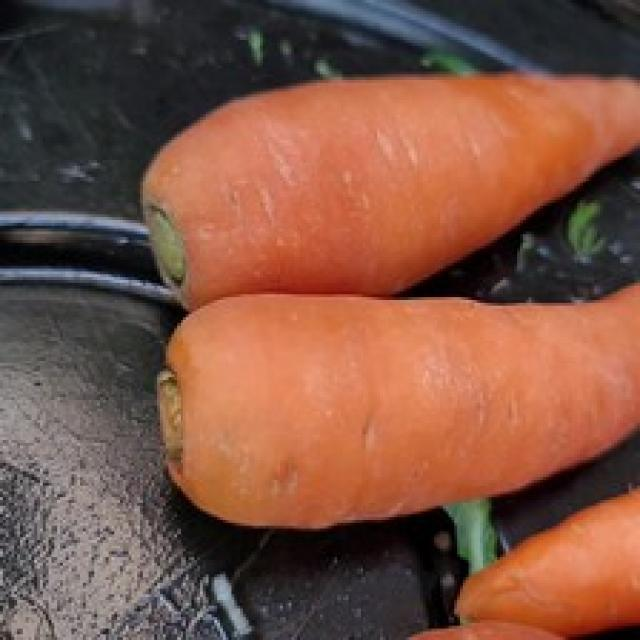carrot: (157, 280, 640, 529), (143, 70, 640, 294)
